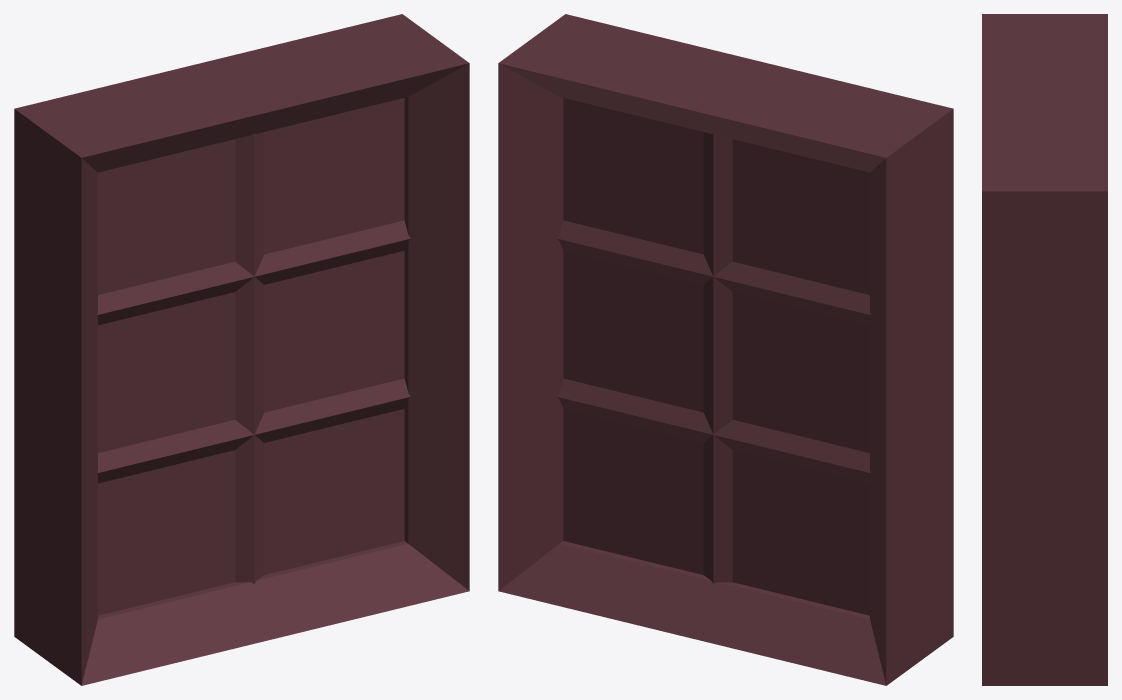
The model's file is window-stone.fbx.
The picture shows the model from 3 angles, left to right: view 1: azimuth 30°, elevation 25°; view 2: azimuth 150°, elevation 25°; view 3: azimuth 270°, elevation 25°; orthographic projection. The views are drawn at different scales.
Visible parts, largest first — view 1: window-stone; view 2: window-stone; view 3: window-stone.
Part boxes in pixels (x1,y1,x2,y2): window-stone: [14, 14, 469, 685]; window-stone: [498, 14, 953, 685]; window-stone: [982, 14, 1107, 685].
Size of the model in its own units: 1 by 1.3 by 0.3.
